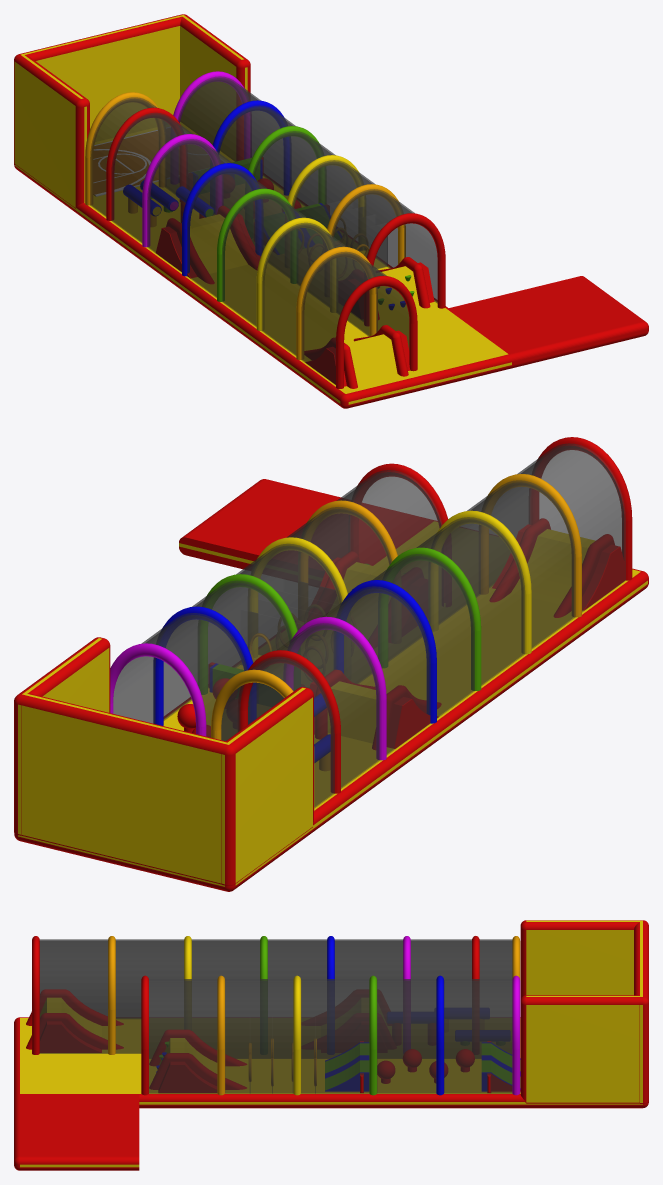
The model's file is FullBouncyCastle.fbx.
3 renders of one model, top to bottom at view 1: azimuth 30°, elevation 25°; view 2: azimuth 150°, elevation 25°; view 3: azimuth 270°, elevation 25°, orthographic. The views are drawn at different scales.
Parts seen in each view (by area): view 1: pTorus6, pCube16, pTorus5, pCube19, pCube17, pCube18, pCube21, pCube22, pCube20, pTorus9, pTorus7, pTorus14 (+12 smaller); view 2: pTorus6, pCube16, pCube19, pTorus5, pCube17, pCube22, pCube18, pCube21, pTorus9, pTorus7, pTorus14, pTorus18 (+11 smaller); view 3: pTorus5, pCube16, pTorus6, pCube18, pCube17, pCube1, pCube22, pCube19, pCube14, pCube15, pTorus10, pTorus13 (+4 smaller).
Part boxes in pixels (x1,y1,x2,y2): pTorus6: [90, 97, 417, 388]; pCube16: [14, 122, 648, 408]; pTorus5: [178, 76, 445, 325]; pCube19: [14, 14, 187, 164]; pCube17: [15, 53, 89, 208]; pCube18: [180, 14, 250, 161]; pCube21: [156, 206, 260, 283]; pCube22: [304, 325, 410, 388]; pCube20: [93, 131, 158, 195]; pTorus9: [256, 217, 336, 330]; pTorus7: [296, 246, 377, 359]; pTorus14: [217, 188, 296, 301]; pTorus6: [221, 437, 632, 807]; pCube16: [14, 479, 648, 891]; pCube19: [14, 692, 237, 885]; pTorus5: [113, 463, 447, 740]; pCube17: [221, 687, 313, 885]; pCube22: [489, 518, 625, 617]; pCube18: [14, 637, 110, 835]; pCube21: [310, 670, 441, 749]; pTorus9: [430, 510, 531, 654]; pTorus7: [480, 474, 581, 617]; pTorus14: [380, 547, 481, 690]; pTorus18: [335, 580, 436, 723]; pTorus5: [141, 975, 512, 1095]; pCube16: [14, 1017, 648, 1170]; pTorus6: [32, 936, 512, 1054]; pCube18: [520, 995, 648, 1103]; pCube17: [520, 920, 648, 998]; pCube1: [149, 1030, 246, 1092]; pCube22: [26, 989, 123, 1052]; pCube19: [634, 920, 648, 1103]; pCube14: [325, 1041, 368, 1093]; pCube15: [482, 1041, 520, 1093]; pTorus10: [293, 975, 301, 1095]; pTorus13: [369, 975, 377, 1095].
Size of the model in its own units: 265 by 94.99 by 494.
